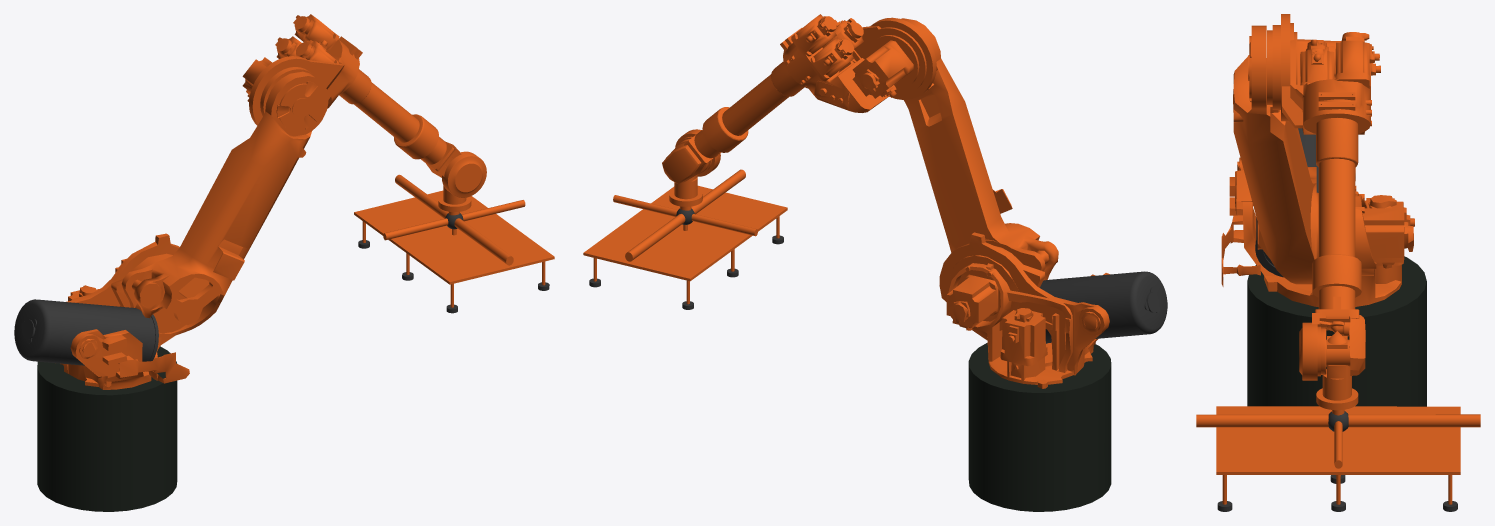
The model's file is jxs6211.FBX.
3 renders of one model, left to right at view 1: azimuth 30°, elevation 25°; view 2: azimuth 150°, elevation 25°; view 3: azimuth 270°, elevation 25°, orthographic. The views are drawn at different scales.
Visible parts, largest first — view 1: jxsdzdizuo, jxsxiazhuti, jxsfadongji, jxsshangzhuti, jxsxipang; view 2: jxsfadongji, jxsdzdizuo, jxsshangzhuti, jxsxiazhuti, jxsxipang, jxstou; view 3: jxsshangzhuti, jxsxipang, jxsdzdizuo, jxsxiazhuti, jxsfadongji, jxstou.
Part boxes in pixels (bbox=[...]): jxsdzdizuo: bbox=[37, 346, 177, 511]; jxsxiazhuti: bbox=[121, 71, 328, 337]; jxsfadongji: bbox=[14, 233, 189, 389]; jxsshangzhuti: bbox=[242, 14, 486, 197]; jxsxipang: bbox=[354, 174, 554, 313]; jxsfadongji: bbox=[939, 232, 1167, 388]; jxsdzdizuo: bbox=[968, 342, 1111, 511]; jxsshangzhuti: bbox=[662, 14, 936, 183]; jxsxiazhuti: bbox=[901, 18, 1058, 280]; jxsxipang: bbox=[583, 169, 787, 309]; jxstou: bbox=[669, 174, 702, 206]; jxsshangzhuti: bbox=[1248, 14, 1380, 380]; jxsxipang: bbox=[1196, 406, 1480, 511]; jxsdzdizuo: bbox=[1247, 256, 1426, 406]; jxsxiazhuti: bbox=[1233, 25, 1316, 284]; jxsfadongji: bbox=[1221, 128, 1414, 306]; jxstou: bbox=[1316, 331, 1358, 410].
Bounding box in the file's own units: 2.92 × 2.22 × 1.09.
